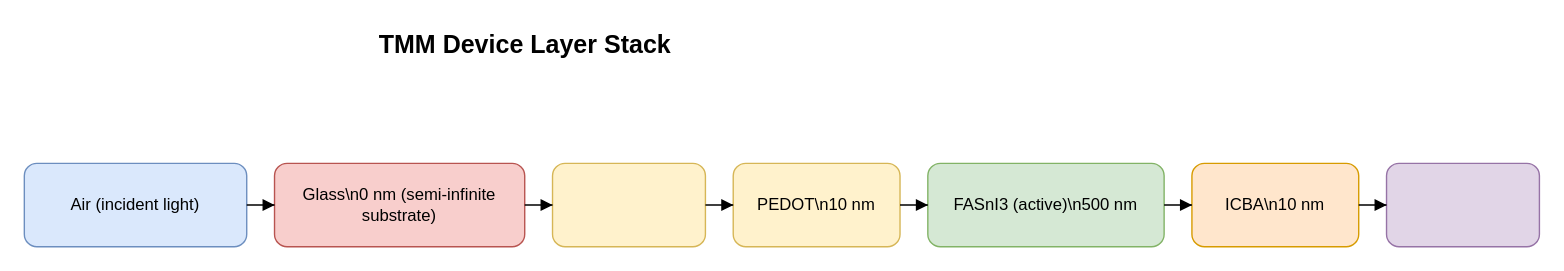
Image size: 1564x271. Some labels were removed from this diagram. Each missing label, with the centre of its shape:
Ag\n100 nm: pixel 1462 204
ITO\n10 nm: pixel 628 204
